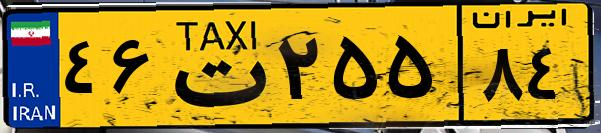2: (270, 28, 330, 110)
4: (57, 26, 110, 100), (525, 38, 570, 115)
5: (385, 28, 445, 110), (330, 28, 385, 110)
6: (110, 28, 158, 98)
8: (475, 38, 525, 113)
ت: (158, 12, 270, 120)
